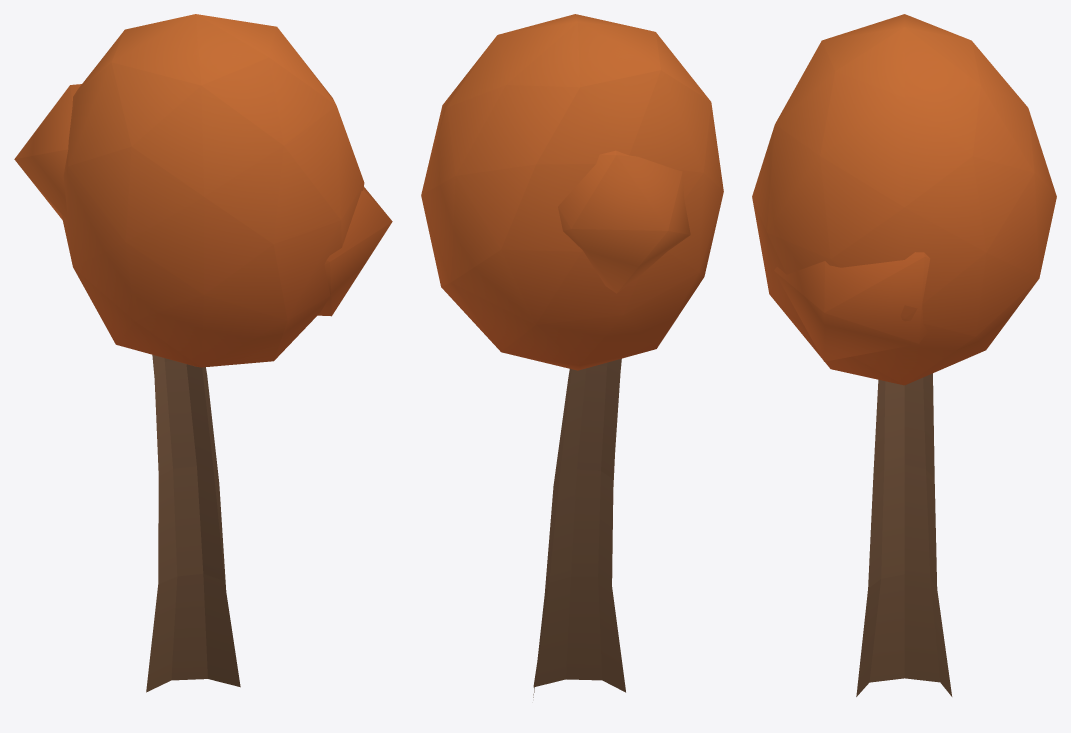
The model's file is autumn_tree_3.glb.
The picture shows the model from 3 angles, left to right: view 1: azimuth 30°, elevation 25°; view 2: azimuth 150°, elevation 25°; view 3: azimuth 270°, elevation 25°; orthographic projection. The views are drawn at different scales.
Parts seen in each view (by area): view 1: autumn_tree_3; view 2: autumn_tree_3; view 3: autumn_tree_3.
Part boxes in pixels (box(x1,y1,x2,y2)): autumn_tree_3: box(14, 14, 392, 692); autumn_tree_3: box(421, 14, 723, 697); autumn_tree_3: box(752, 14, 1056, 696).
Size of the model in its own units: 2.19 by 4.89 by 2.02.
